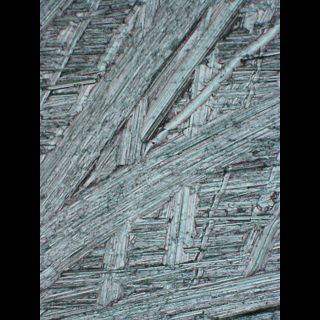d: (41, 2, 279, 320)
